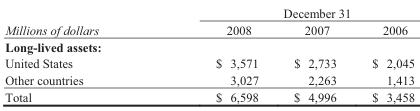table: (4, 4, 414, 104)
table column: (4, 4, 156, 104), (156, 4, 275, 104), (275, 4, 353, 104), (353, 4, 414, 104)
table column header: (4, 4, 414, 37)
table projected row header: (4, 37, 414, 54)
table row: (4, 20, 414, 37), (4, 37, 414, 54), (4, 54, 414, 71), (4, 87, 414, 104), (4, 4, 414, 20), (4, 71, 414, 87)
table spanning cell: (4, 4, 156, 37), (156, 4, 414, 20)
